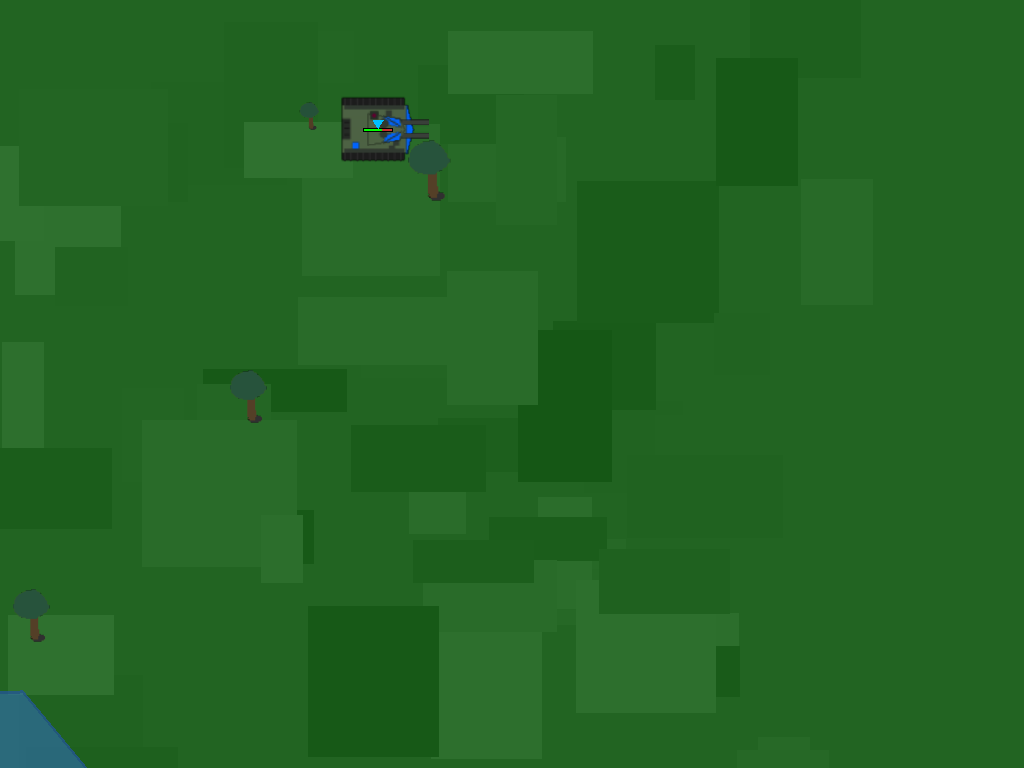Lake: (0, 691, 136, 768)
Type99: (343, 93, 412, 162)
